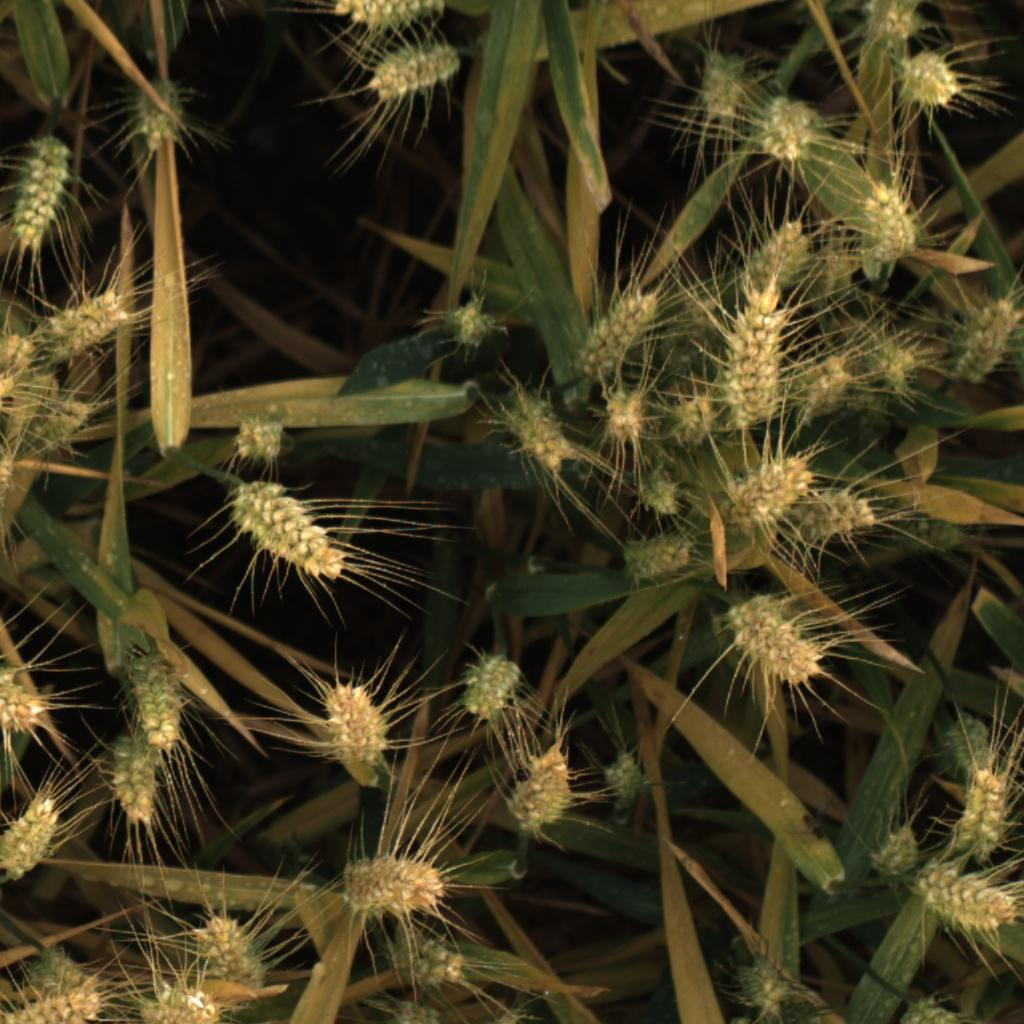0-0: (225, 479, 349, 590), (725, 587, 830, 690), (723, 278, 790, 436), (573, 283, 661, 383), (3, 136, 78, 253), (36, 283, 136, 368), (342, 850, 448, 925), (917, 861, 1016, 939), (723, 453, 814, 535), (502, 741, 579, 835), (947, 291, 1024, 385), (949, 765, 1022, 861), (320, 675, 393, 769), (188, 907, 270, 989), (497, 394, 574, 481), (17, 933, 114, 1001), (123, 652, 188, 750), (369, 41, 461, 108), (788, 342, 858, 430), (106, 730, 166, 832), (892, 506, 982, 571), (860, 326, 925, 414), (390, 920, 472, 989), (0, 793, 62, 884), (743, 211, 817, 287), (865, 173, 925, 264), (757, 89, 821, 171), (896, 46, 972, 113), (805, 485, 888, 546), (460, 649, 525, 726), (657, 384, 721, 460), (803, 236, 867, 311), (693, 38, 748, 124), (0, 649, 50, 740), (25, 397, 94, 461), (594, 378, 655, 450), (860, 815, 923, 884), (620, 531, 693, 589), (228, 407, 291, 473), (733, 953, 795, 1019), (134, 72, 187, 148), (943, 712, 1000, 781), (600, 745, 653, 817), (4, 985, 101, 1024), (333, 0, 454, 31), (439, 296, 494, 356), (134, 986, 220, 1024), (0, 326, 40, 406), (863, 0, 929, 47), (635, 467, 684, 526), (896, 991, 968, 1024), (0, 440, 24, 523), (375, 995, 440, 1024)
